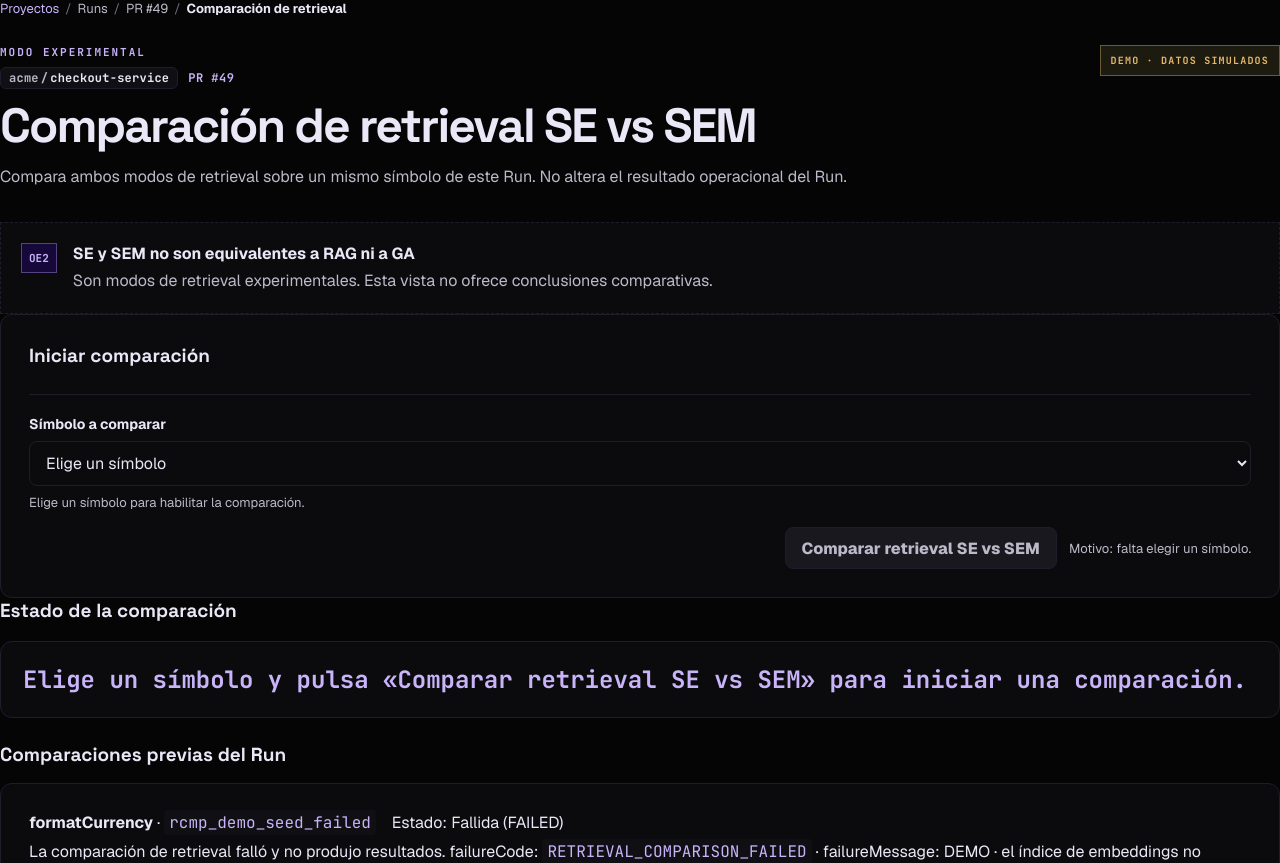
RetrievalComparisonPage (WI-CONSOLE-014, Corte B) › un FAILED con failureCode desconocido muestra el código tal cual, sin inventar causa
Select "formatCurrency · FUNCTION · src/shared/money.ts" in the dropdown labelled "Símbolo a comparar": x=640, y=464 [29,441,1251,486]
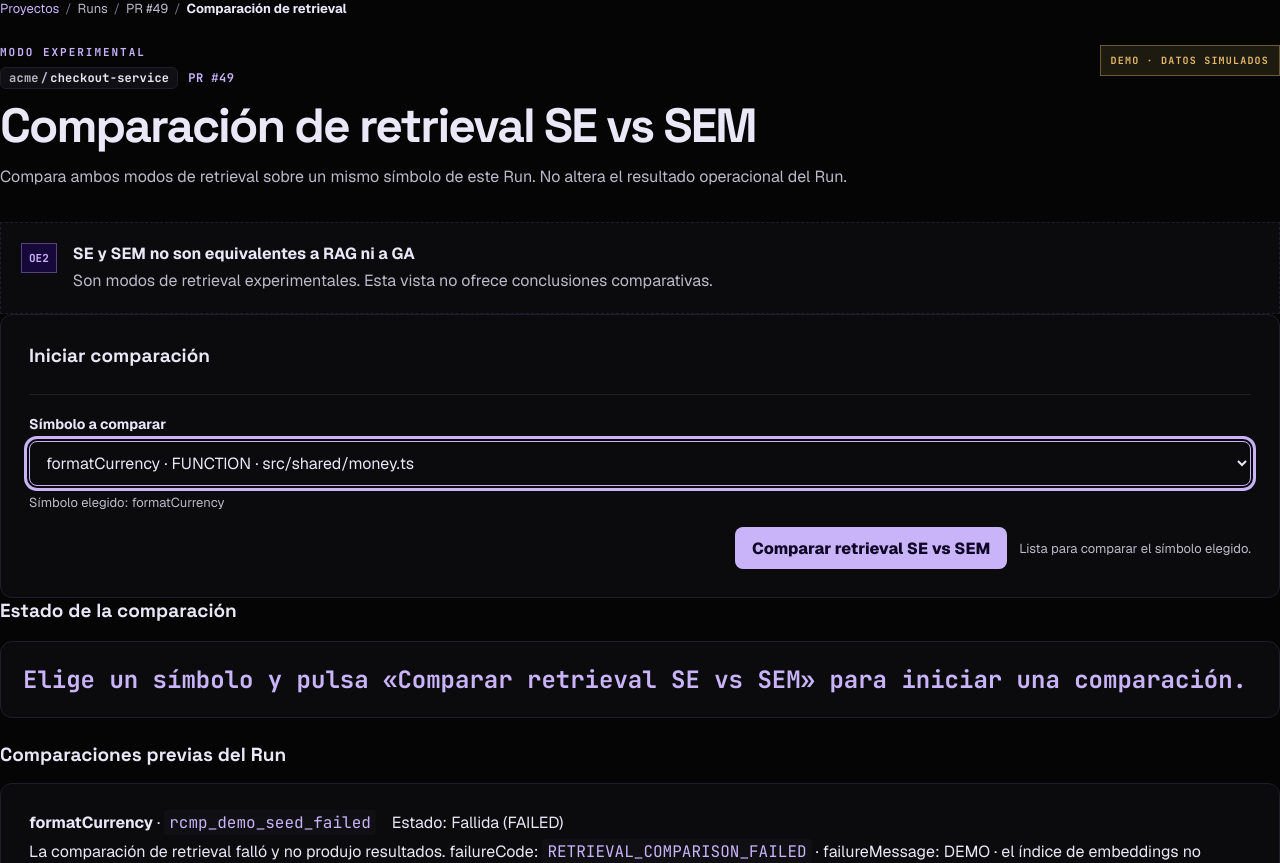
Click the button "Comparar retrieval SE vs SEM": x=871, y=548 [735,527,1007,569]
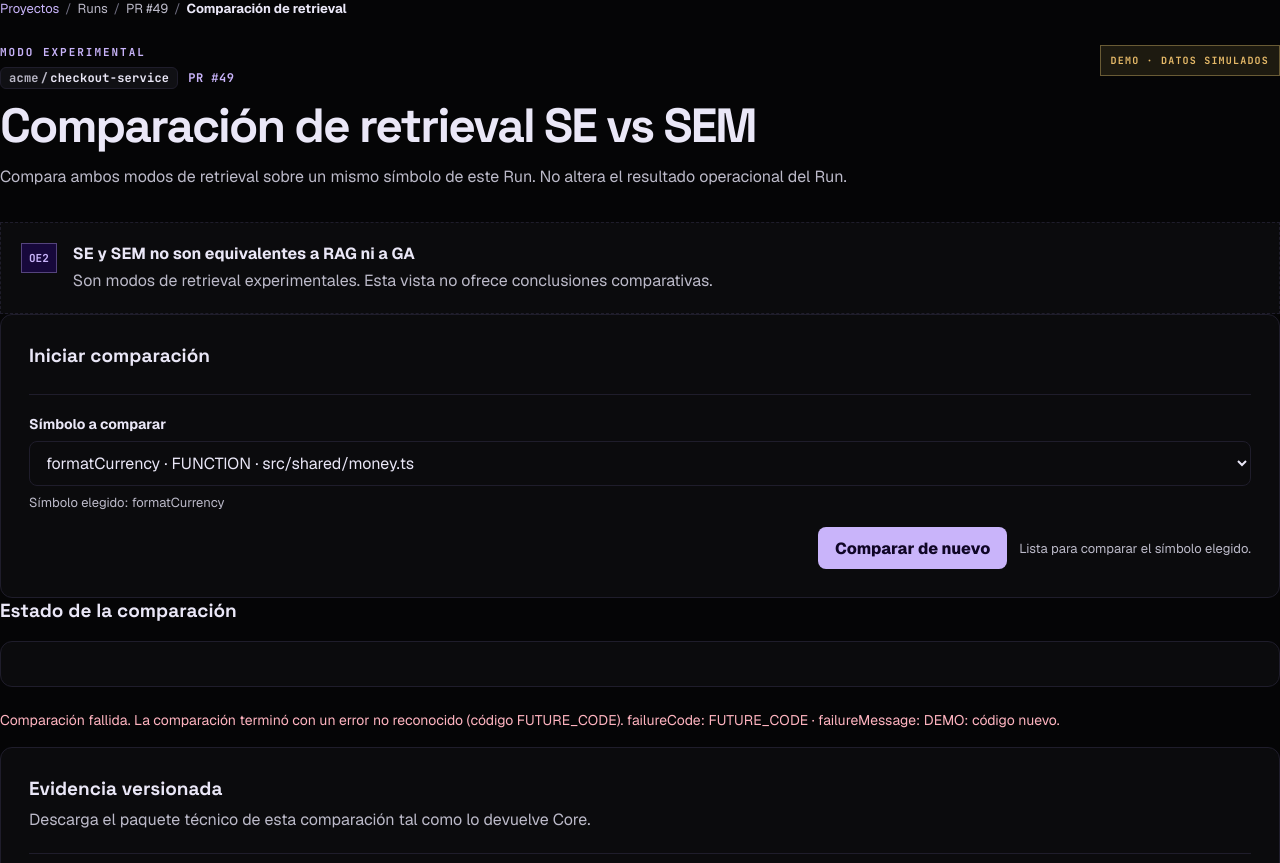
Expected: the 2nd message shows "código FUTURE_CODE", [0,711,1060,729]
